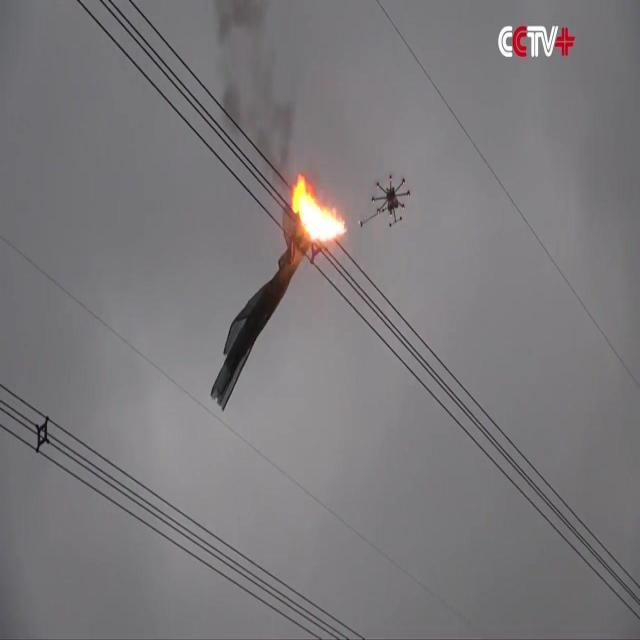drone: (370, 170, 411, 230)
